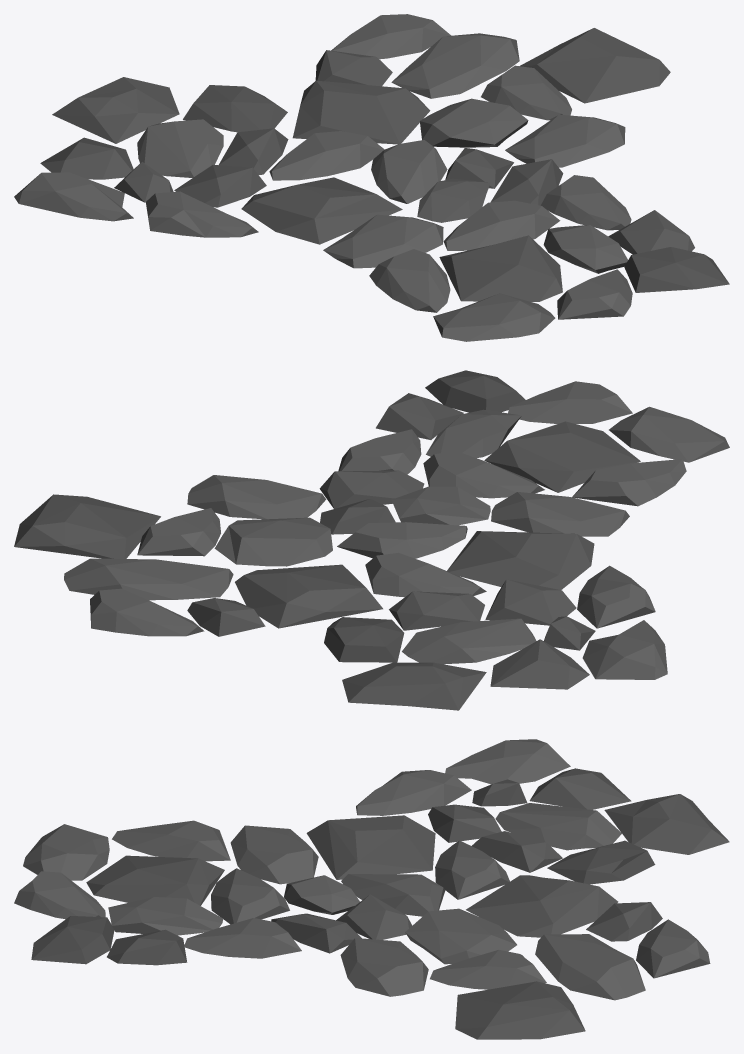
The model's file is road_stone_Y-cross.fbx.
The picture shows the model from 3 angles, top to bottom: view 1: azimuth 30°, elevation 25°; view 2: azimuth 150°, elevation 25°; view 3: azimuth 270°, elevation 25°; orthographic projection. The views are drawn at different scales.
Visible parts, largest first — view 1: road_stone_Y-cross; view 2: road_stone_Y-cross; view 3: road_stone_Y-cross.
Part boxes in pixels (x1,y1,x2,y2): road_stone_Y-cross: (14,14,729,341); road_stone_Y-cross: (14,370,729,710); road_stone_Y-cross: (14,739,729,1039).
Size of the model in its own units: 310 by 10.44 by 318.
